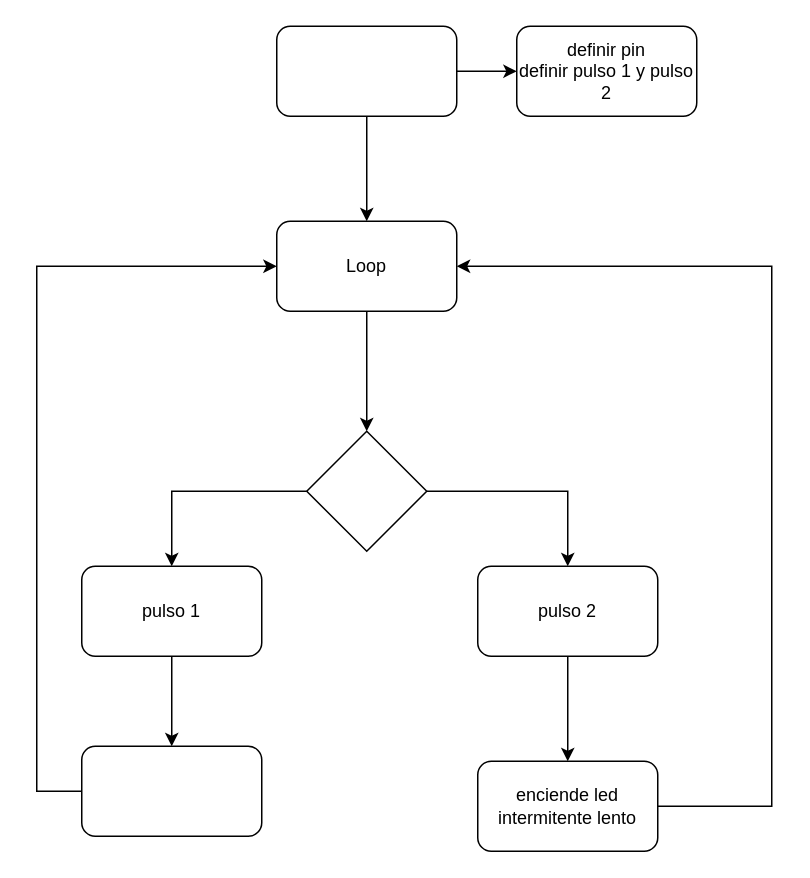
This 810x878 diagram has some shape labels left out. Here are the shapes that lost their labels. From the top down, the centre of each, then its label:
point 366,70: inicio
point 366,490: seleccione
point 171,790: enciende led intermitente rapido
